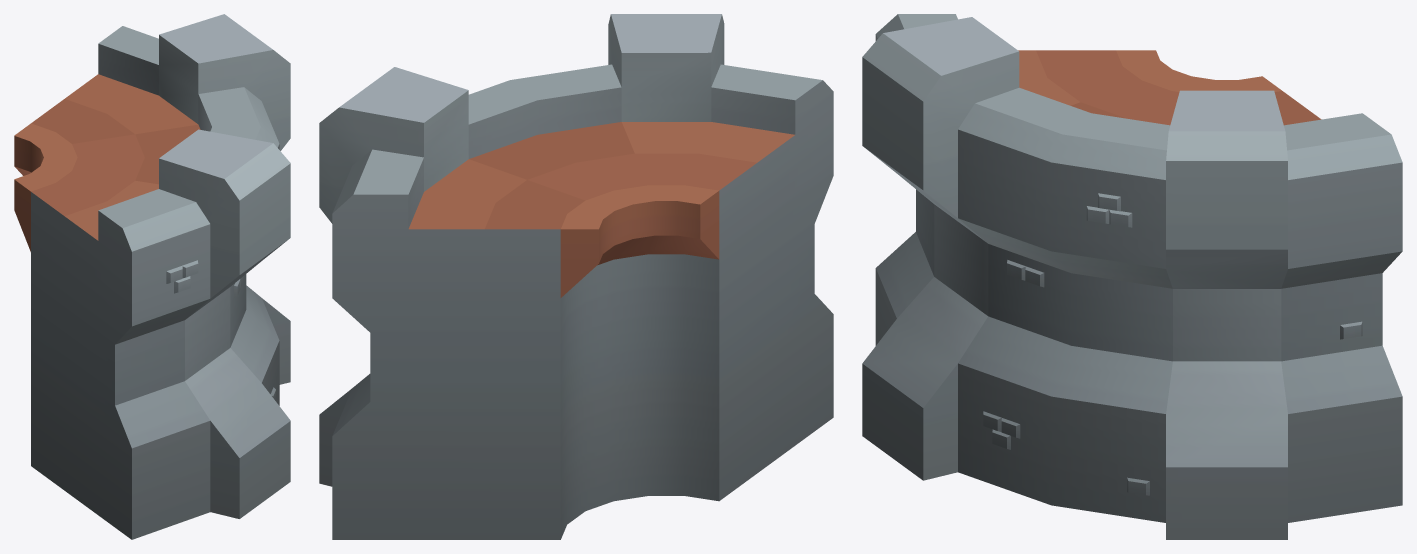
File: kaykit-medieval-hexagon-pack-wall-corner-b-outside.glb
The picture shows the model from 3 angles, left to right: view 1: azimuth 30°, elevation 25°; view 2: azimuth 150°, elevation 25°; view 3: azimuth 270°, elevation 25°; orthographic projection. The views are drawn at different scales.
Parts seen in each view (by area): view 1: wall_corner_B_outside; view 2: wall_corner_B_outside; view 3: wall_corner_B_outside.
Boxes of the visible parts, x1,y1,x2,y2 form: wall_corner_B_outside: (14,14,290,539); wall_corner_B_outside: (319,14,833,539); wall_corner_B_outside: (862,14,1402,539).
Size of the model in its own units: 0.964 by 1.1 by 1.35.
1 material, 1 textured.
